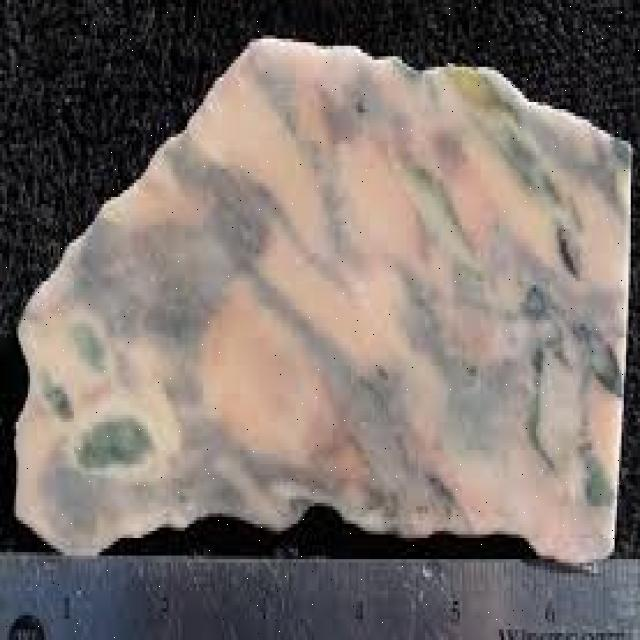Metamorphic: (2, 35, 633, 570)
